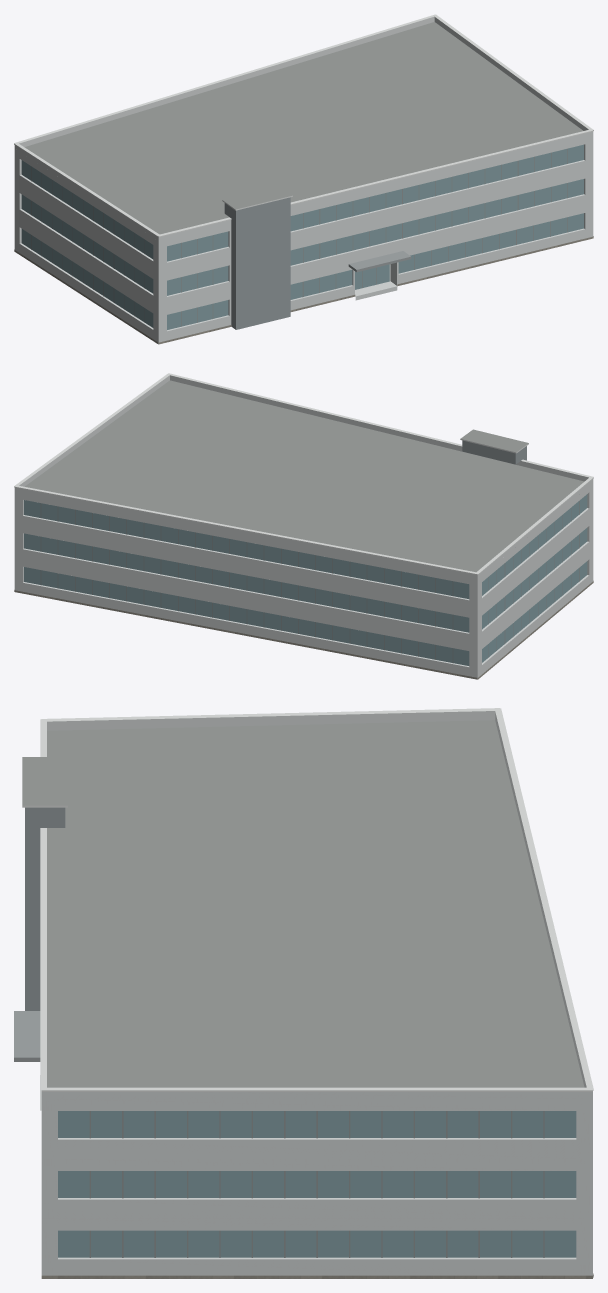
The picture shows the model from 3 angles, top to bottom: view 1: azimuth 30°, elevation 25°; view 2: azimuth 150°, elevation 25°; view 3: azimuth 270°, elevation 25°; orthographic projection. The views are drawn at different scales.
Parts seen in each view (by area): view 1: osm631011002__roof, osm631011002__wall, osm631011002__glass, osm631011002__wall2, osm631011002__parapet, osm631011002__trim, osm631011002__frame, osm631011002__base, osm631011002__canopy, osm631011002__entranceThreshold_0; view 2: osm631011002__roof, osm631011002__wall, osm631011002__glass, osm631011002__parapet, osm631011002__trim, osm631011002__frame, osm631011002__base, osm631011002__wall2; view 3: osm631011002__roof, osm631011002__wall, osm631011002__glass, osm631011002__parapet, osm631011002__trim, osm631011002__wall2, osm631011002__frame, osm631011002__base, osm631011002__canopy.
Boxes of the visible parts, bbox=[...] form: osm631011002__roof: bbox=[24, 22, 582, 234]; osm631011002__wall: bbox=[14, 135, 593, 344]; osm631011002__glass: bbox=[21, 144, 583, 329]; osm631011002__wall2: bbox=[224, 197, 290, 329]; osm631011002__parapet: bbox=[14, 16, 593, 241]; osm631011002__trim: bbox=[14, 14, 593, 237]; osm631011002__frame: bbox=[31, 148, 567, 326]; osm631011002__base: bbox=[14, 236, 593, 344]; osm631011002__canopy: bbox=[348, 251, 411, 272]; osm631011002__entranceThreshold_0: bbox=[355, 281, 397, 300]; osm631011002__roof: bbox=[25, 380, 584, 572]; osm631011002__wall: bbox=[14, 482, 593, 678]; osm631011002__glass: bbox=[24, 494, 587, 665]; osm631011002__parapet: bbox=[14, 375, 593, 578]; osm631011002__trim: bbox=[14, 373, 593, 574]; osm631011002__frame: bbox=[40, 501, 579, 662]; osm631011002__base: bbox=[14, 581, 593, 679]; osm631011002__wall2: bbox=[462, 440, 526, 464]; osm631011002__roof: bbox=[22, 720, 584, 1087]; osm631011002__wall: bbox=[41, 1099, 592, 1275]; osm631011002__glass: bbox=[58, 1111, 576, 1257]; osm631011002__parapet: bbox=[41, 711, 592, 1098]; osm631011002__trim: bbox=[22, 708, 593, 1091]; osm631011002__wall2: bbox=[25, 807, 65, 1010]; osm631011002__frame: bbox=[89, 1111, 544, 1257]; osm631011002__base: bbox=[41, 1273, 593, 1278]; osm631011002__canopy: bbox=[14, 1011, 40, 1061].
Size of the model in its own units: 49.32 by 13.15 by 31.62.
11 materials, 1 textured.
